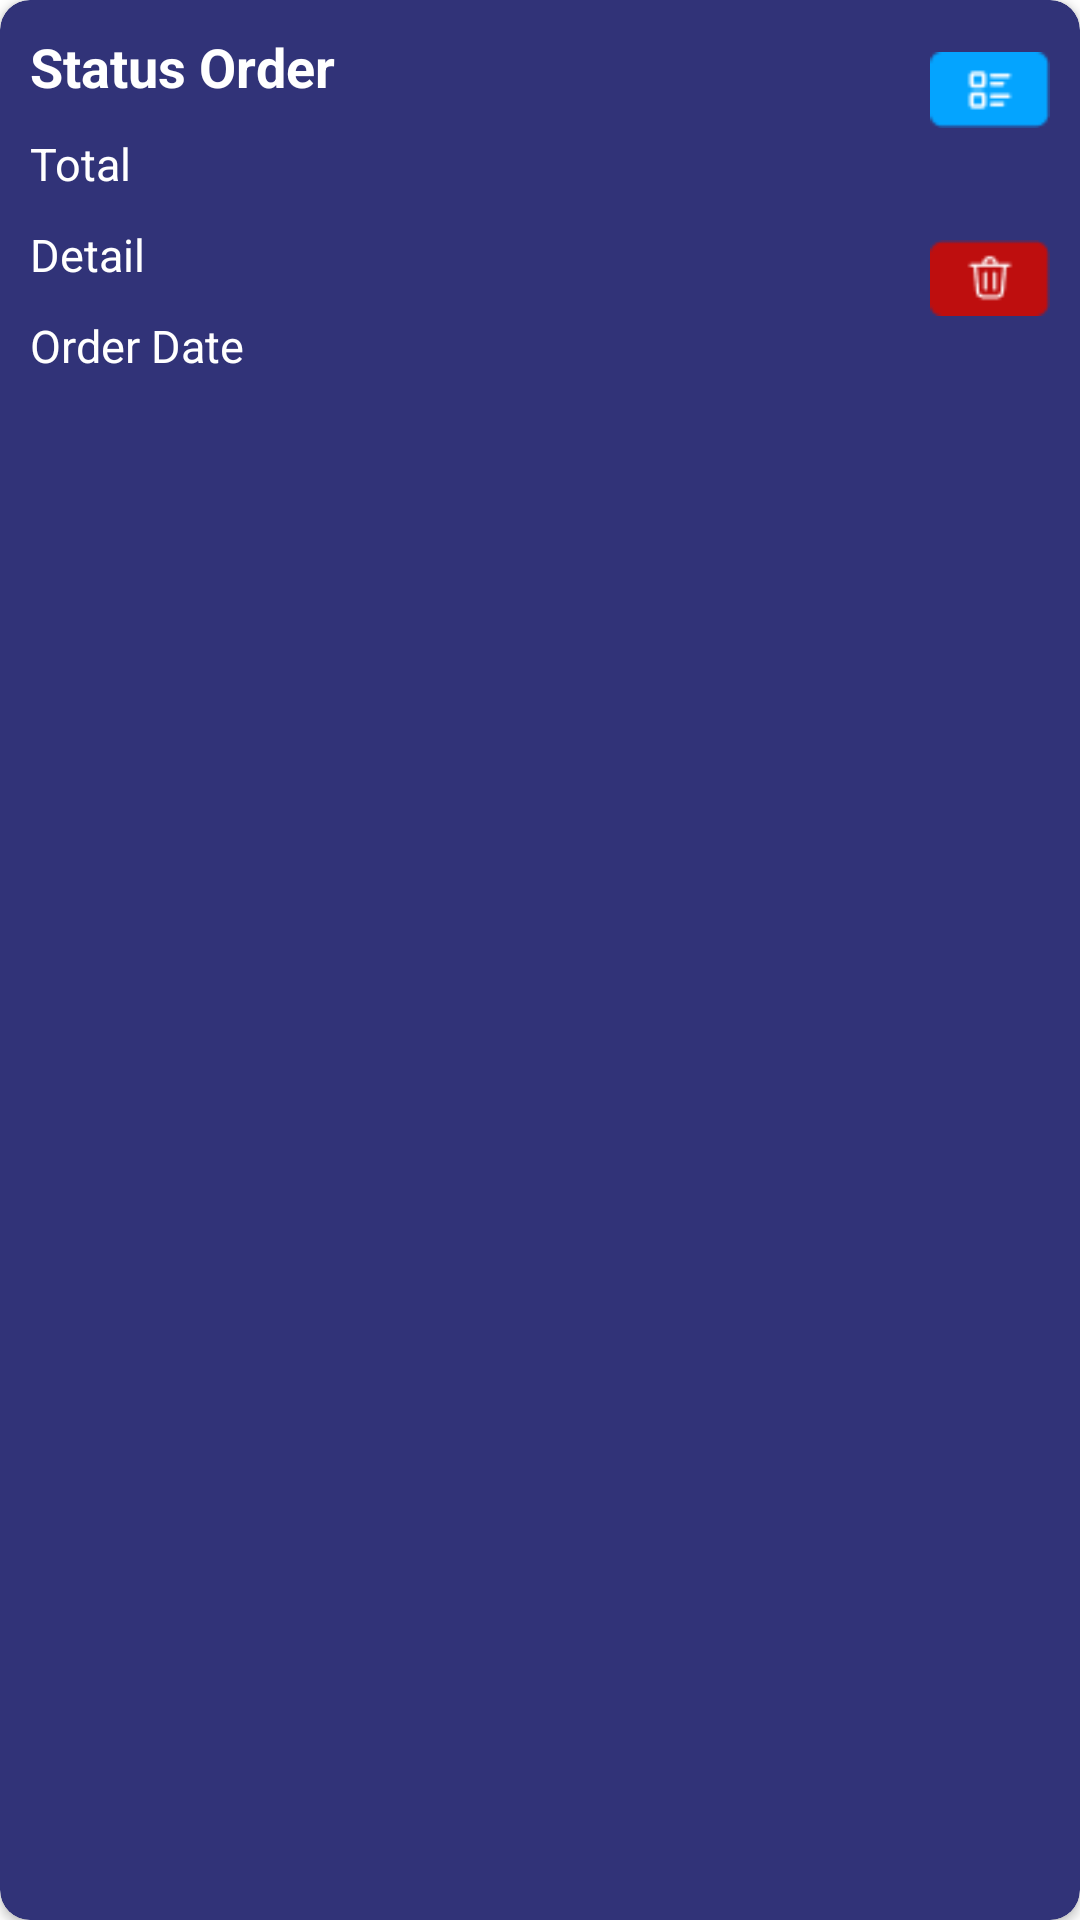

Locate icon controls on the screen. Image size 1080×1920, boxes as (x1, y1, x2, y2).
delete: (930, 240, 1050, 316)
detail order: (930, 52, 1050, 128)
